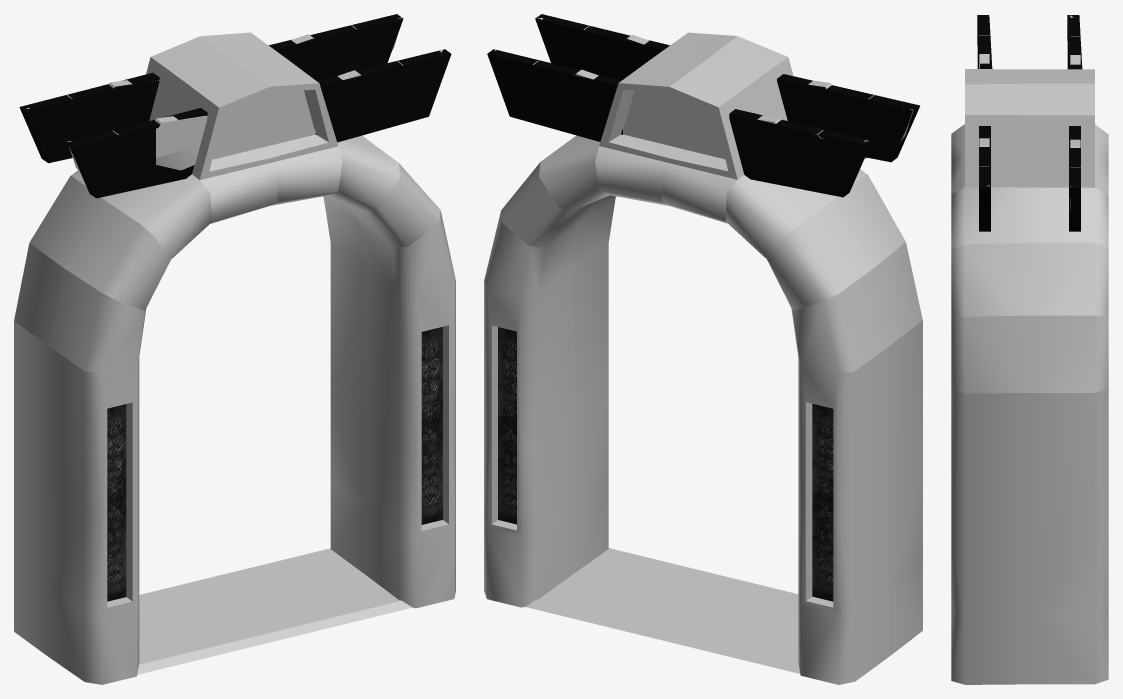
Rendered from door_frame_arched.dae.
The picture shows the model from 3 angles, left to right: view 1: azimuth 30°, elevation 25°; view 2: azimuth 150°, elevation 25°; view 3: azimuth 270°, elevation 25°; orthographic projection. The views are drawn at different scales.
Visible parts, largest first — view 1: polySurface139, pCube1, polySurface150, pCube4, pCube2, pCube5, pCube3, polySurface137; view 2: polySurface139, pCube1, pCube2, polySurface150, pCube3, pCube5, pCube4; view 3: polySurface139, pCube3, pCube4, pCube2, pCube5.
Part boxes in pixels (<box>): polySurface139: <box>14,32,455,684</box>; pCube1: <box>137,548,412,674</box>; polySurface150: <box>107,327,442,601</box>; pCube4: <box>315,49,451,142</box>; pCube2: <box>19,72,159,163</box>; pCube5: <box>67,108,207,198</box>; pCube3: <box>269,14,403,80</box>; polySurface137: <box>67,115,207,172</box>; polySurface139: <box>484,32,922,684</box>; pCube1: <box>525,548,800,673</box>; pCube2: <box>729,109,871,197</box>; polySurface150: <box>498,327,833,601</box>; pCube3: <box>487,49,622,141</box>; pCube5: <box>777,74,919,162</box>; pCube4: <box>535,14,669,80</box>; polySurface139: <box>951,69,1108,684</box>; pCube3: <box>1069,126,1080,231</box>; pCube4: <box>979,126,990,231</box>; pCube2: <box>1067,15,1082,69</box>; pCube5: <box>977,15,992,68</box>.
Size of what is drawn, in the model's own units: 255 by 354 by 98.06.
